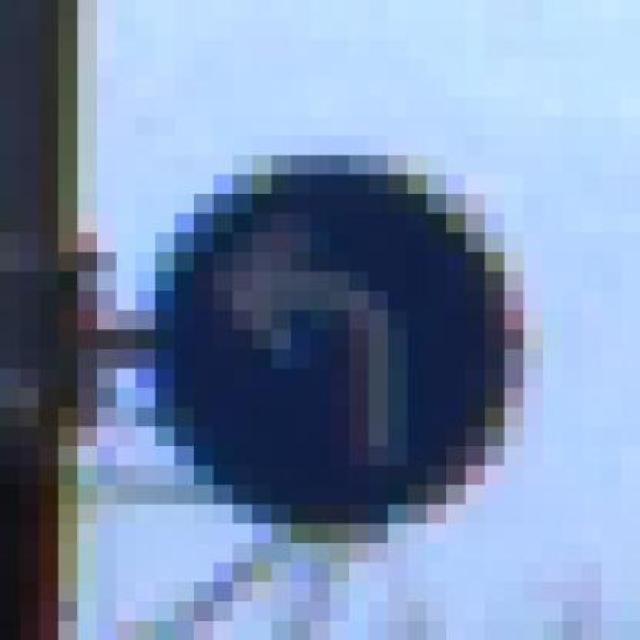Turn left ahead: (135, 116, 543, 562)
